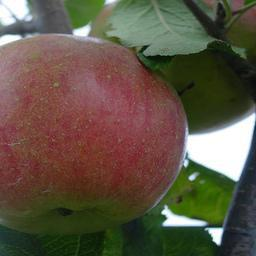apple: (1, 33, 188, 231)
